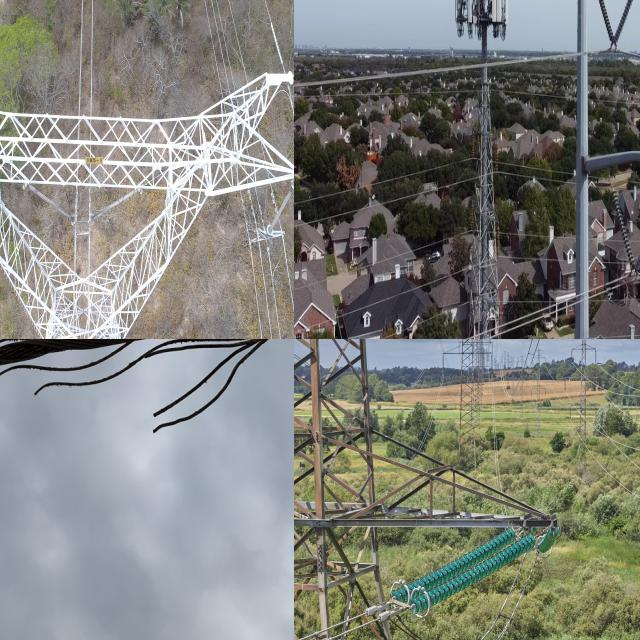杆塔: (0, 18, 294, 339), (294, 339, 436, 640), (451, 0, 515, 339), (568, 339, 599, 471), (451, 339, 487, 438)
正常电缆: (294, 595, 396, 640)
正常绝缘子: (380, 518, 552, 617), (21, 177, 77, 228), (88, 181, 144, 227), (610, 187, 639, 275), (264, 182, 294, 243), (609, 0, 635, 53), (598, 0, 617, 46), (630, 249, 640, 280)
电缆破损: (0, 339, 287, 447)
